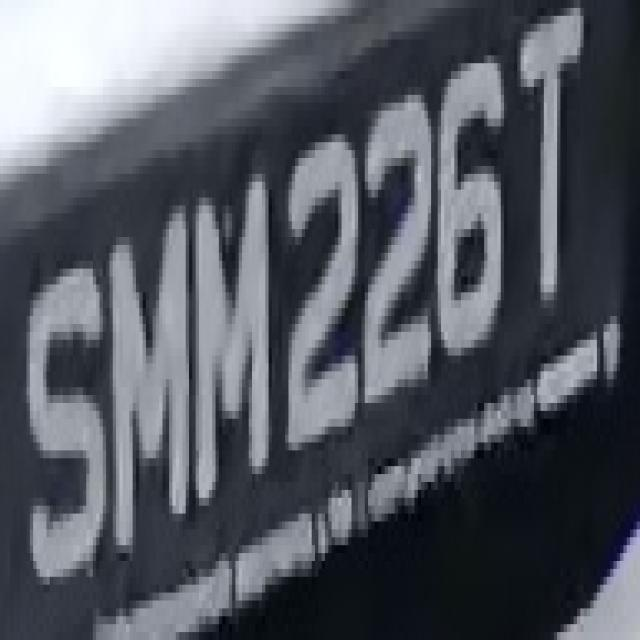2: (352, 79, 444, 435), (282, 134, 361, 466)
6: (438, 32, 507, 387)
M: (182, 150, 278, 498), (110, 205, 196, 569)
S: (23, 237, 113, 624)
T: (508, 0, 590, 324)
